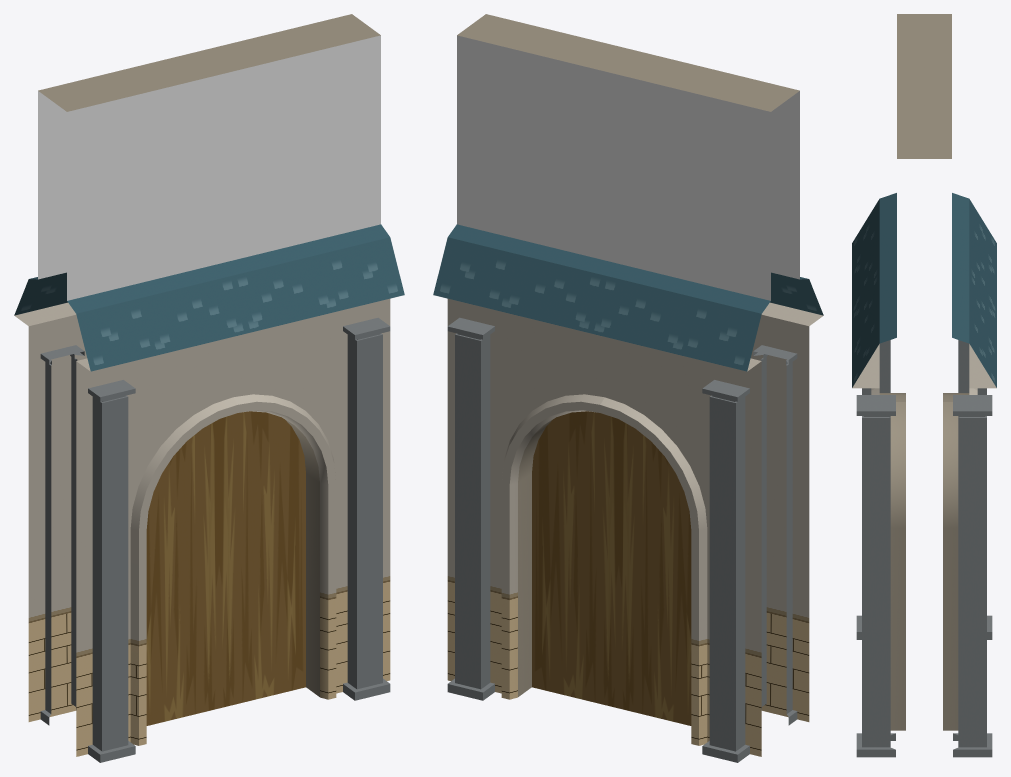
The model's file is SM_Porte.fbx.
3 renders of one model, left to right at view 1: azimuth 30°, elevation 25°; view 2: azimuth 150°, elevation 25°; view 3: azimuth 270°, elevation 25°, orthographic. The views are drawn at different scales.
Visible parts, largest first — view 1: Porte; view 2: Porte; view 3: Porte.
Boxes of the visible parts, x1,y1,x2,y2 form: Porte: (14,14,404,762); Porte: (433,14,823,762); Porte: (852,14,996,757).
Size of the model in its own units: 4 by 7.77 by 1.69.
